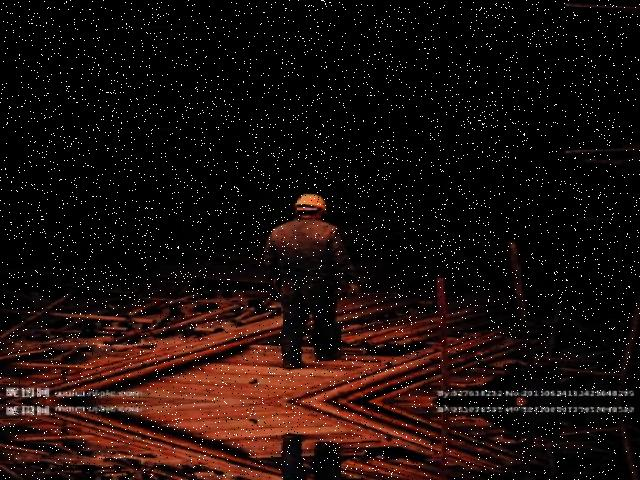Helmet: (287, 187, 330, 217)
